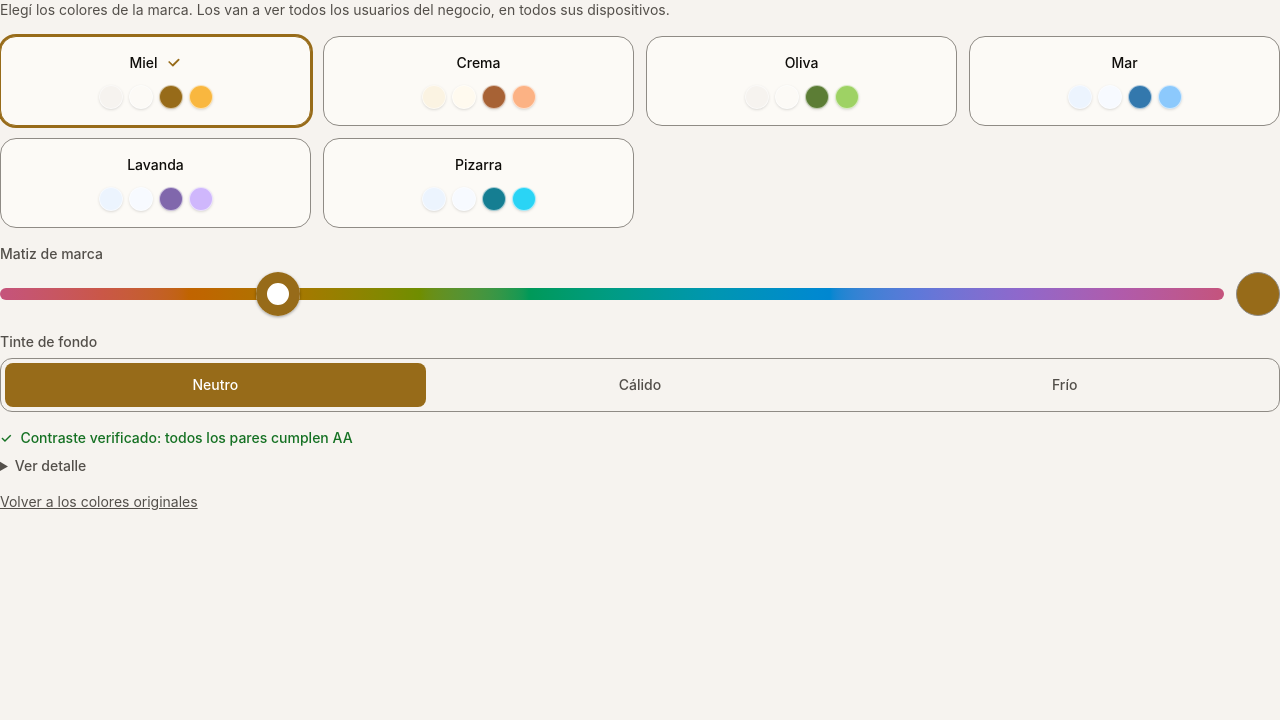
Scenario: SeccionColoresNegocio › "Volver a los colores originales" pide confirmación antes de borrar
This screenshot has width=1280, height=720.
Click the button "Volver a los colores originales". click: (99, 502)
box: [0, 492, 198, 512]
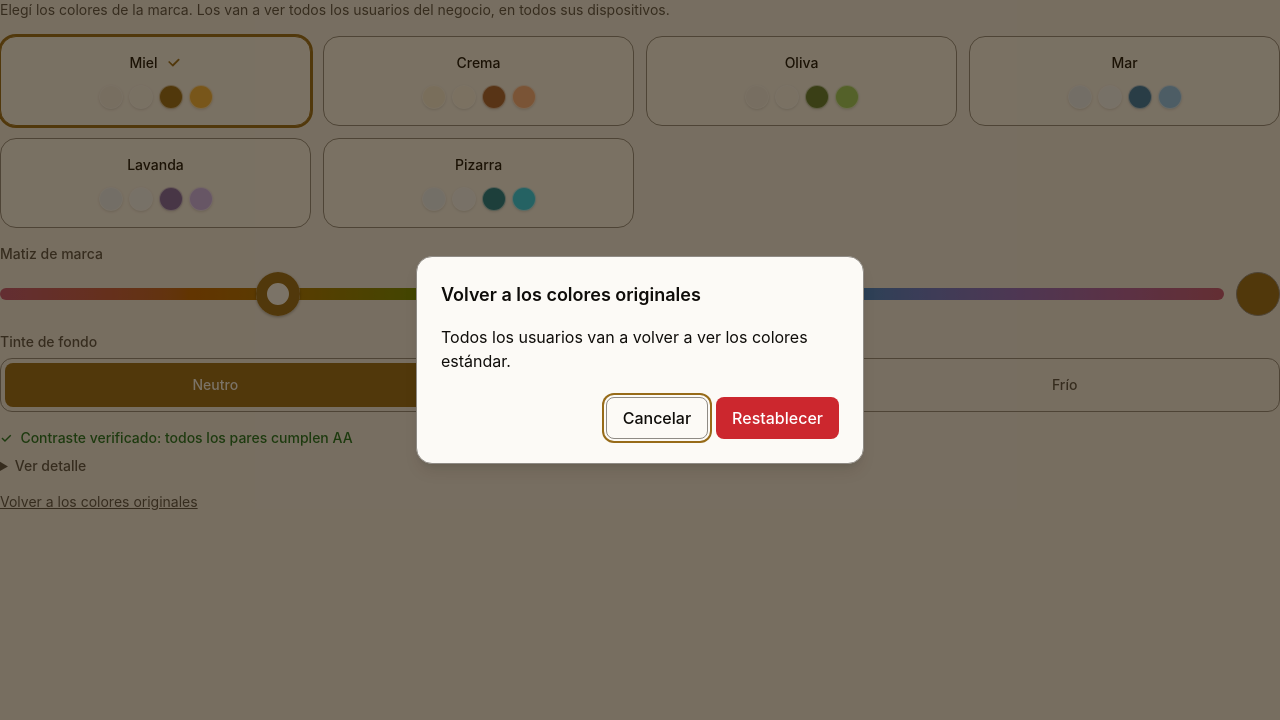
Check: the text "Todos los usuarios van a volver a ver los colores estándar." is shown, box [441, 325, 839, 373]
